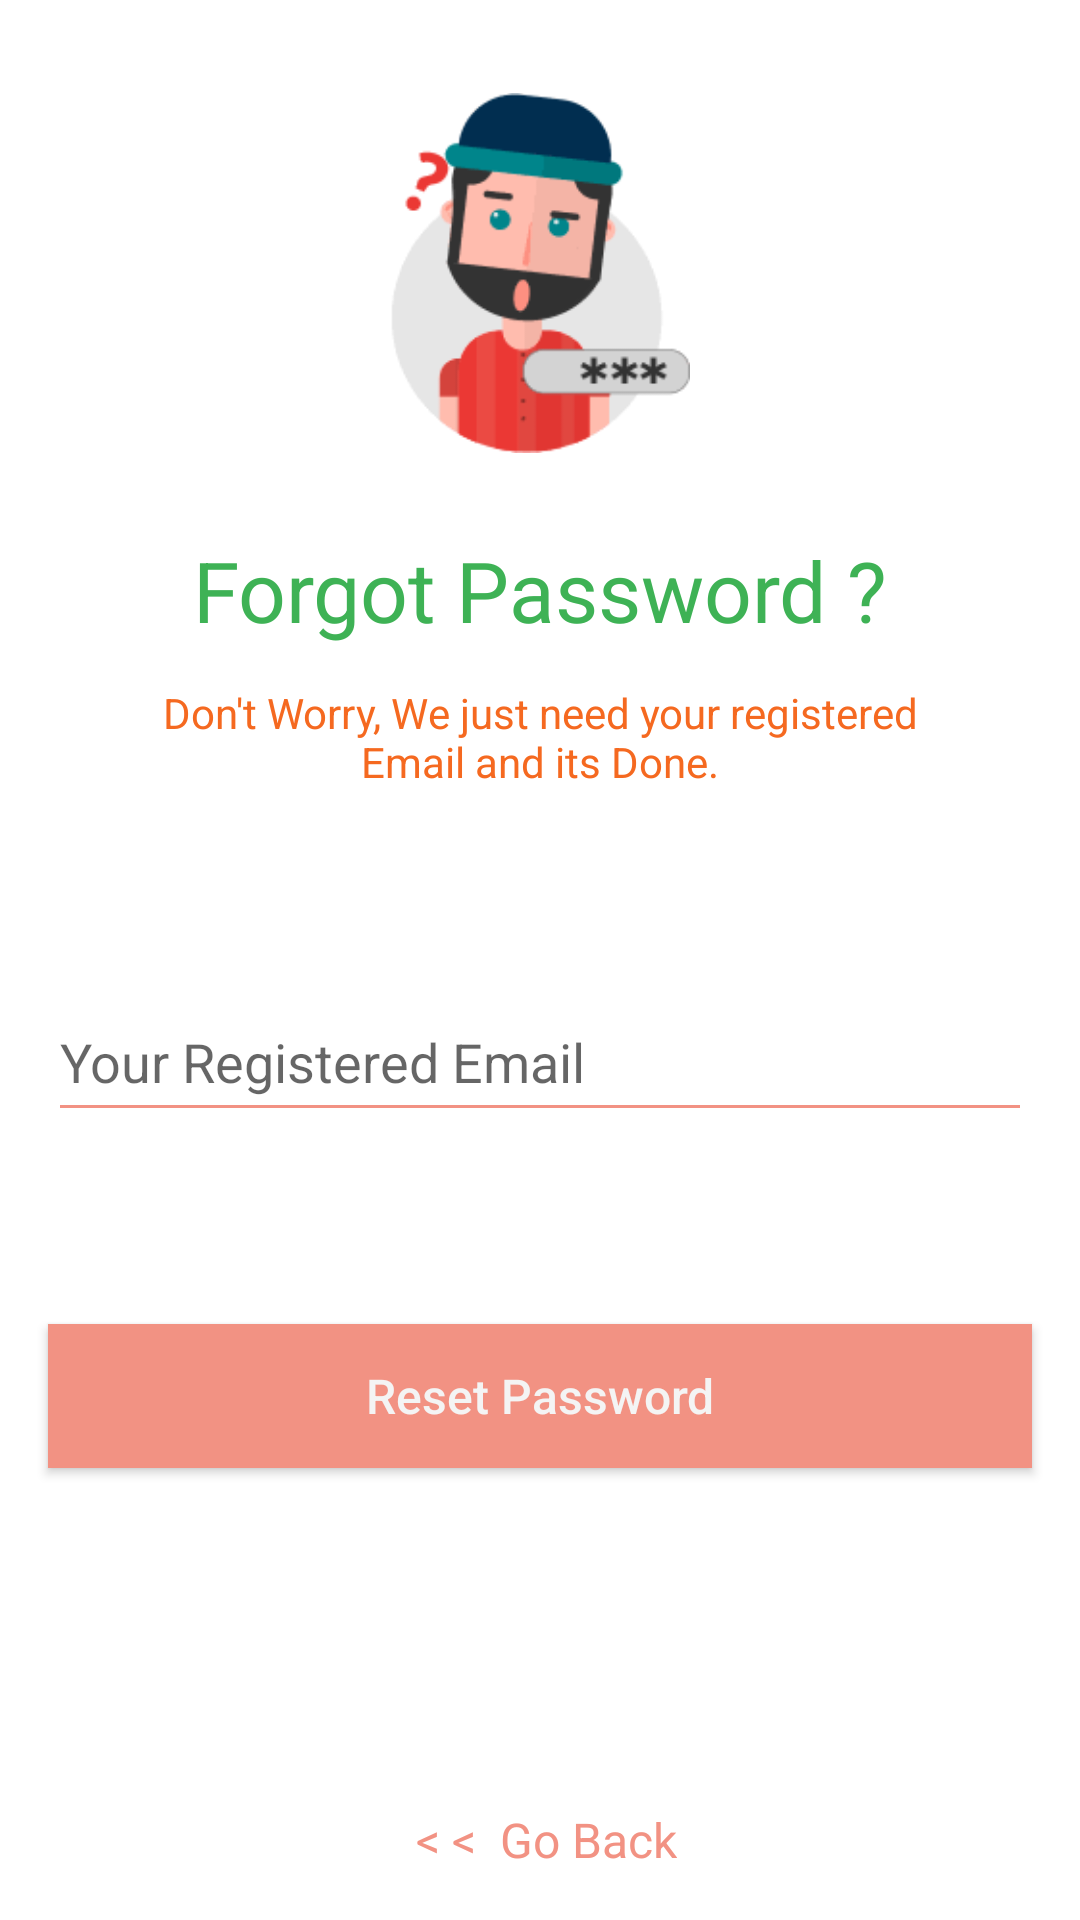

Point at icon controls on the screen. Image size 1080px x 1920px, points as [x,y].
thinking: [541,273]
